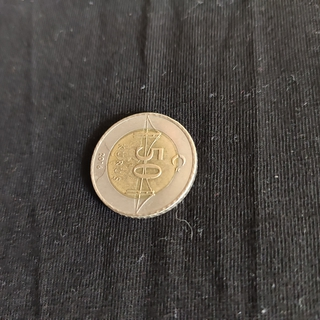50KURUS: (89, 110, 198, 220)
